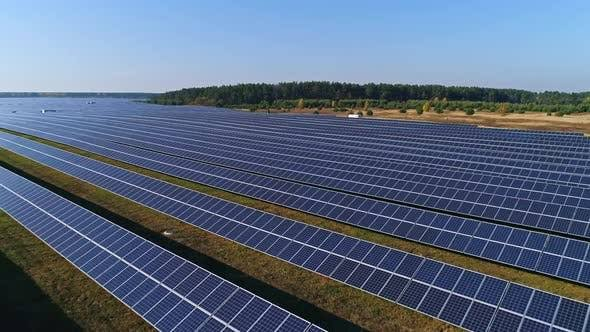Solar Panel: (488, 137, 589, 219), (405, 128, 486, 203), (472, 303, 590, 332), (155, 257, 183, 332), (183, 271, 213, 331), (214, 286, 247, 332), (134, 246, 155, 315), (430, 269, 462, 314), (110, 233, 133, 294), (397, 258, 426, 305), (339, 241, 370, 283), (64, 209, 87, 262), (89, 220, 109, 279), (372, 250, 395, 296), (312, 231, 337, 273), (43, 196, 64, 245), (19, 181, 41, 225), (291, 224, 313, 264), (268, 218, 289, 256), (466, 271, 493, 300), (245, 211, 266, 246), (572, 243, 589, 284), (533, 235, 551, 273), (1, 171, 18, 210), (554, 237, 570, 278), (496, 227, 513, 265), (251, 300, 271, 332), (515, 230, 531, 269), (209, 198, 225, 232), (228, 205, 243, 239), (463, 220, 477, 256), (481, 223, 494, 260), (434, 213, 448, 247), (418, 211, 432, 245), (402, 207, 415, 239), (449, 215, 460, 252)
